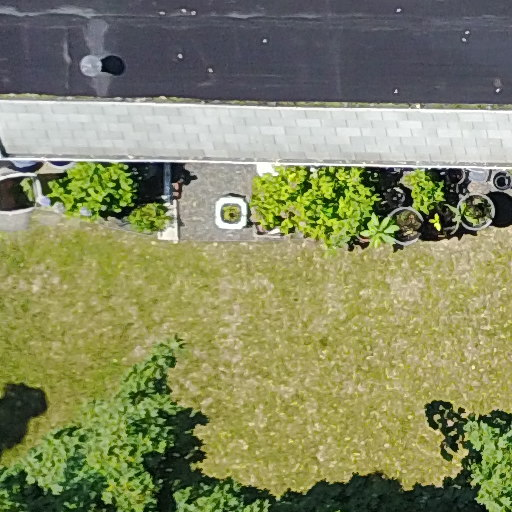pot: (377, 203, 430, 248), (420, 193, 469, 241), (453, 186, 498, 232), (380, 180, 409, 211), (444, 164, 471, 190), (487, 169, 512, 192)
